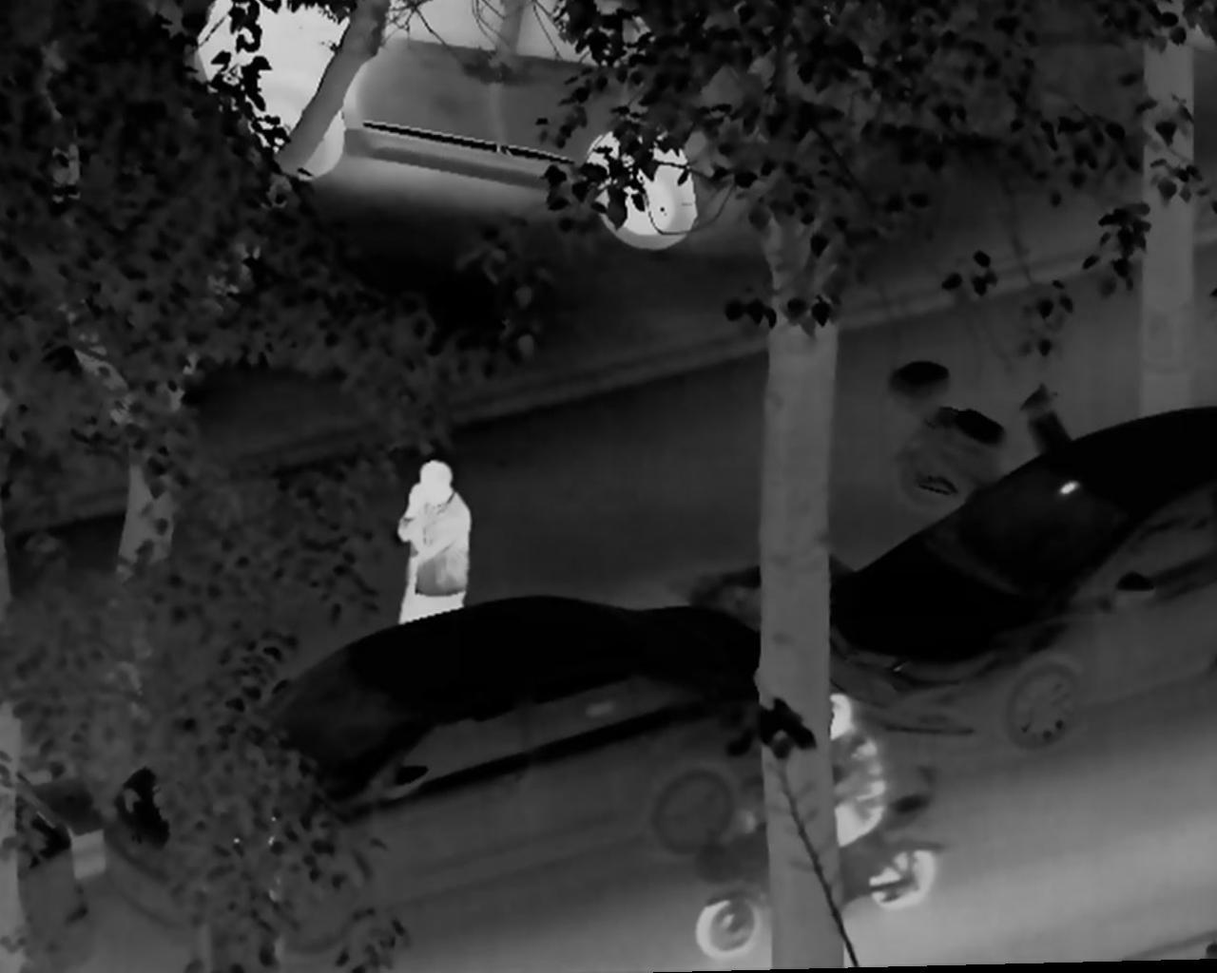person: (394, 456, 473, 625), (816, 695, 887, 855)
